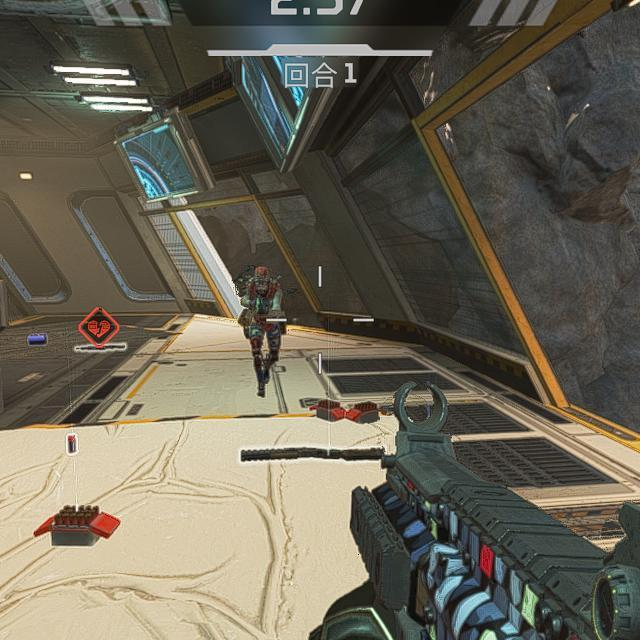avatar: (233, 266, 288, 398)
